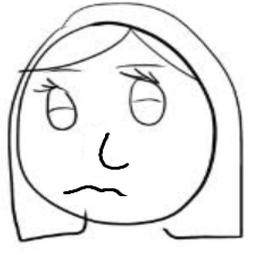eye: (116, 68, 172, 134), (32, 77, 79, 136)
eyebrow: (115, 61, 170, 68), (50, 68, 85, 73)
line_unsmiling_mouth: (61, 179, 132, 201)
nose: (89, 128, 138, 177)
